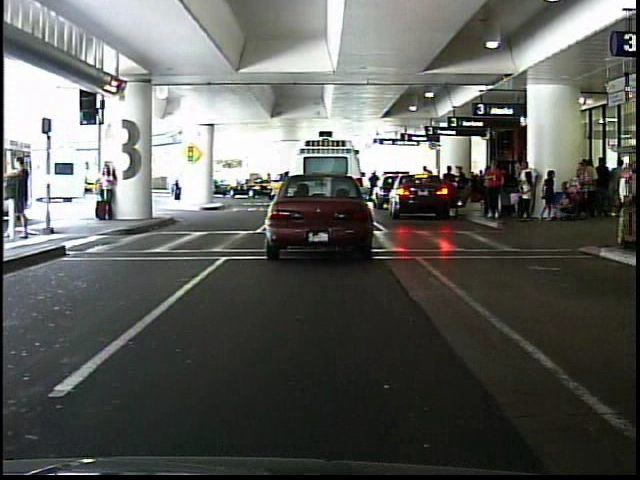person: (7, 151, 33, 242), (96, 158, 120, 222), (485, 161, 506, 223), (162, 161, 189, 204), (639, 144, 640, 255)
